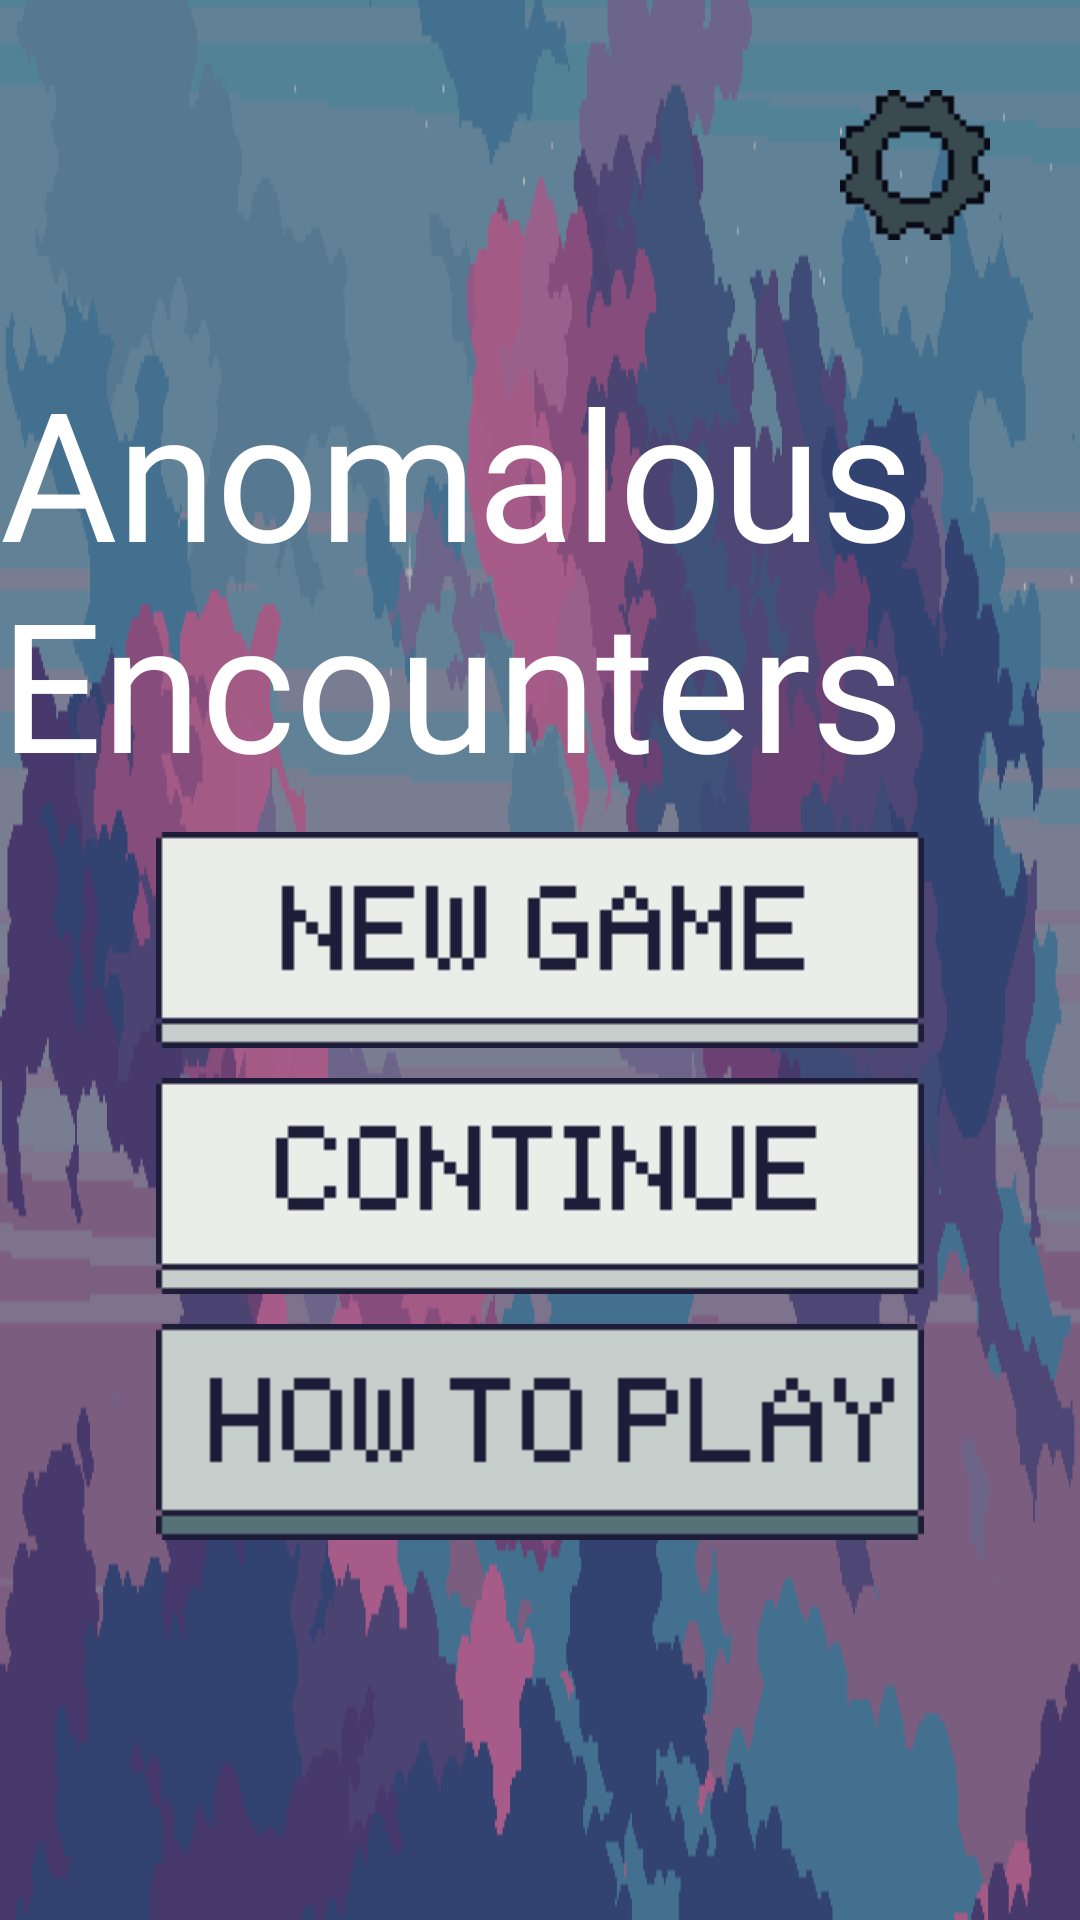

Icons on this 1080 x 1920 Android screen, each with the point to tap as (x=x, y=y):
settings gear: (x=915, y=165)
